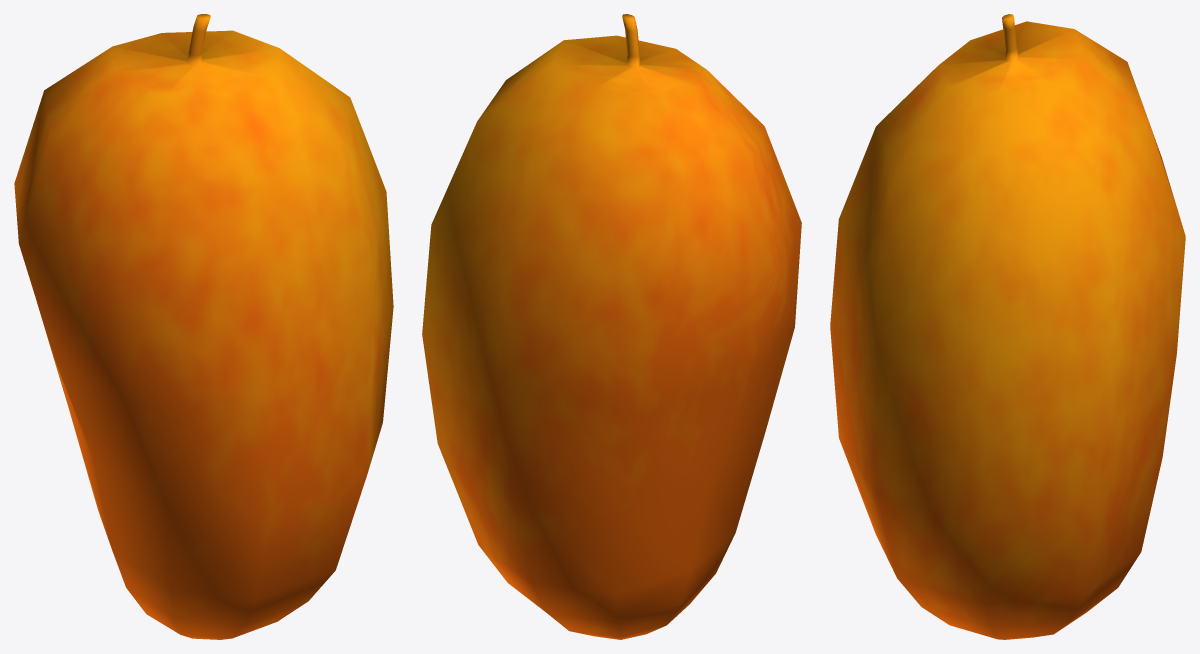
The model's file is mango.glb.
The picture shows the model from 3 angles, left to right: view 1: azimuth 30°, elevation 25°; view 2: azimuth 150°, elevation 25°; view 3: azimuth 270°, elevation 25°; orthographic projection.
Visible parts, largest first — view 1: mango; view 2: mango; view 3: mango.
Part boxes in pixels (box(x1,y1,x2,y2)): mango: box(14, 14, 393, 639); mango: box(422, 14, 801, 639); mango: box(830, 14, 1185, 639).
Size of the model in its own units: 0.2791 by 0.4792 by 0.2534.
1 material, 1 textured.
